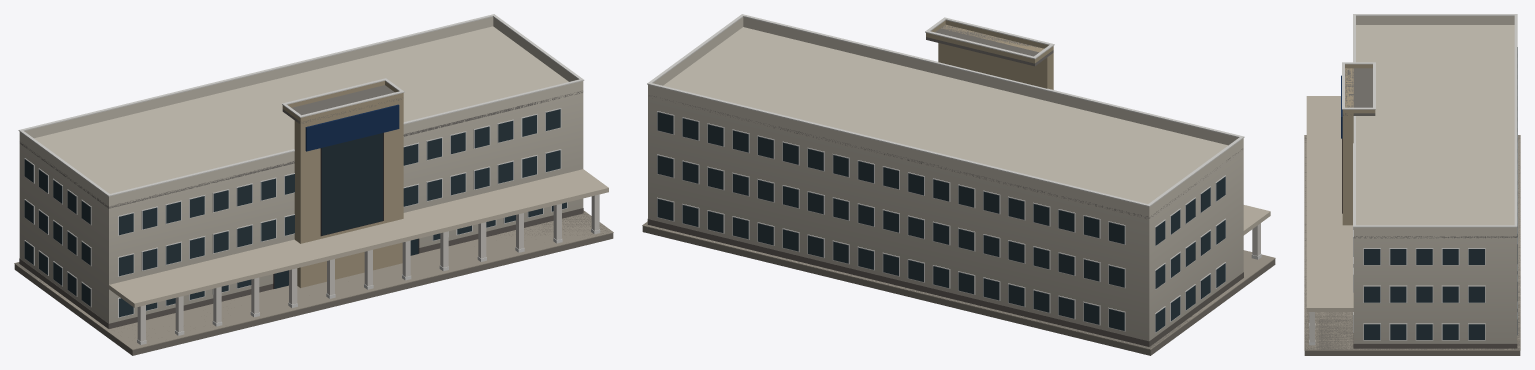
The model's file is ns_uni_lod1.glb.
3 views of the same model, side by side, from view 1: azimuth 30°, elevation 25°; view 2: azimuth 150°, elevation 25°; view 3: azimuth 270°, elevation 25° (orthographic). The views are drawn at different scales.
Visible parts, largest first — view 1: ns_uni_lod1; view 2: ns_uni_lod1; view 3: ns_uni_lod1.
Part boxes in pixels (box(x1,y1,x2,y2)): ns_uni_lod1: box(14, 14, 613, 355); ns_uni_lod1: box(642, 14, 1275, 355); ns_uni_lod1: box(1304, 14, 1520, 355).
Size of the model in its own units: 46.66 by 16.48 by 19.86.
